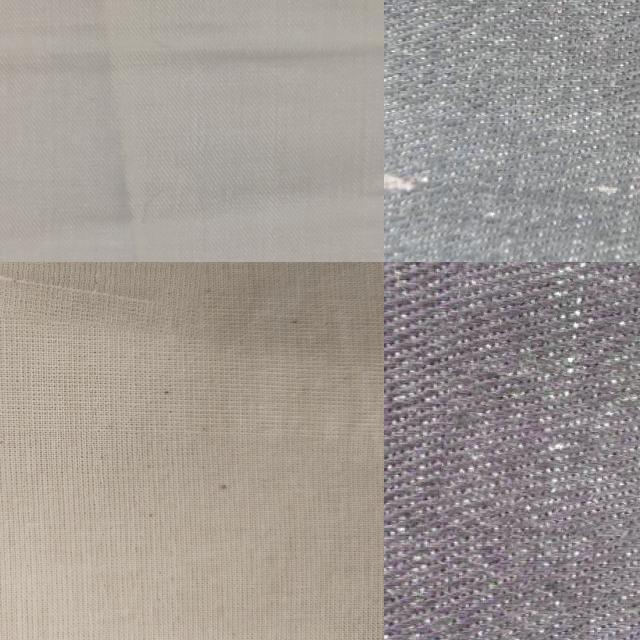Thread_other: (444, 262, 640, 534), (384, 123, 640, 262), (0, 262, 205, 331)
